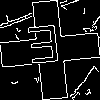E: (25, 25, 63, 73)
